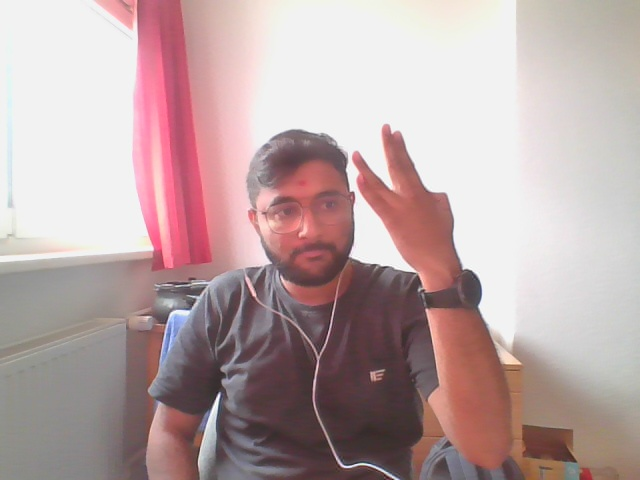LiveLong: (353, 126, 455, 261)
